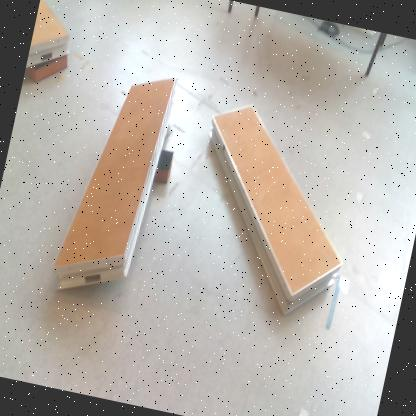Stairs: (208, 106, 342, 316), (52, 78, 177, 296), (26, 1, 69, 70)
